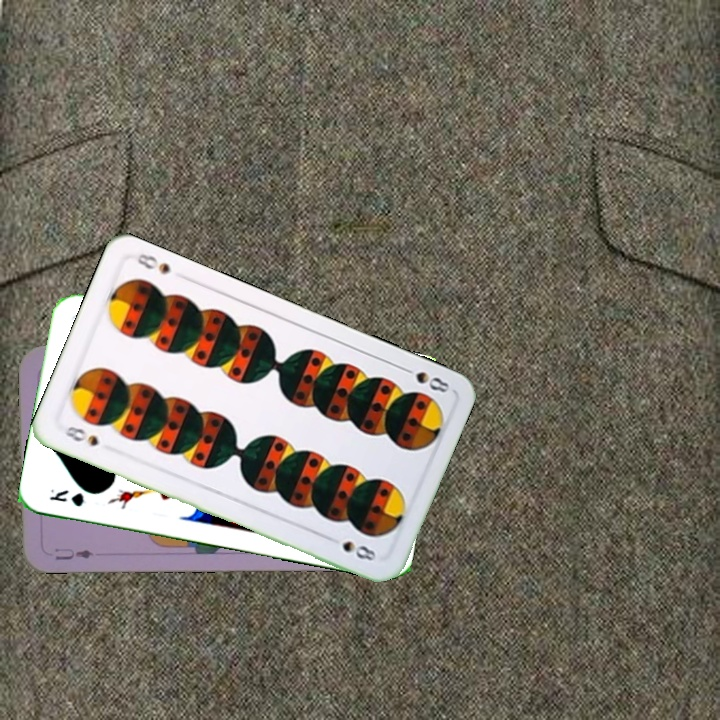EU: (50, 544, 96, 563)
GK: (45, 485, 89, 509)
S8: (396, 362, 452, 396), (60, 422, 101, 449)
